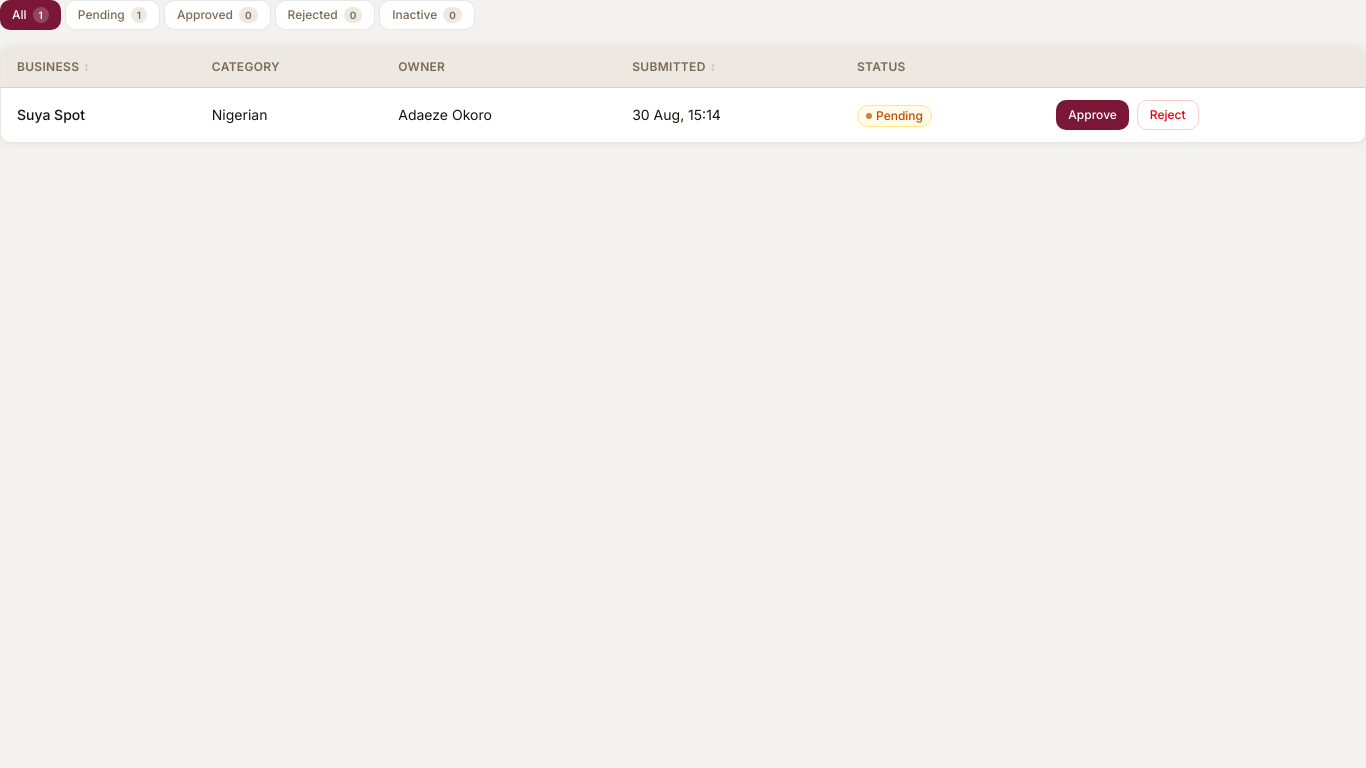
Test: Vendor review action › opening the drawer fetches and shows payout account details
The width and height of the screenshot is (1366, 768).
Click the text "Suya Spot".
click(51, 114)  # box [17, 106, 85, 123]
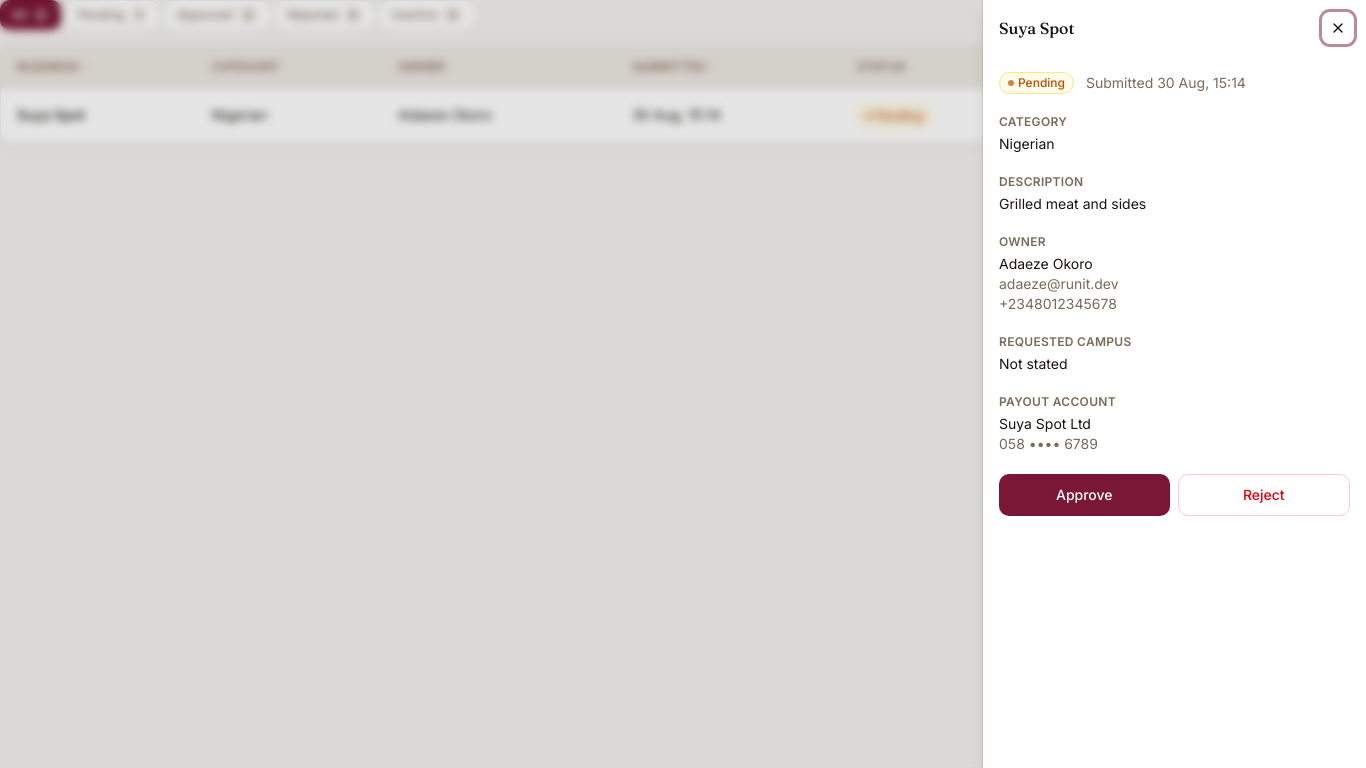
expect the text "Suya Spot Ltd" is shown: met, box [999, 415, 1091, 432]
expect the text "058 •••• 6789" is shown: met, box [999, 435, 1098, 452]
